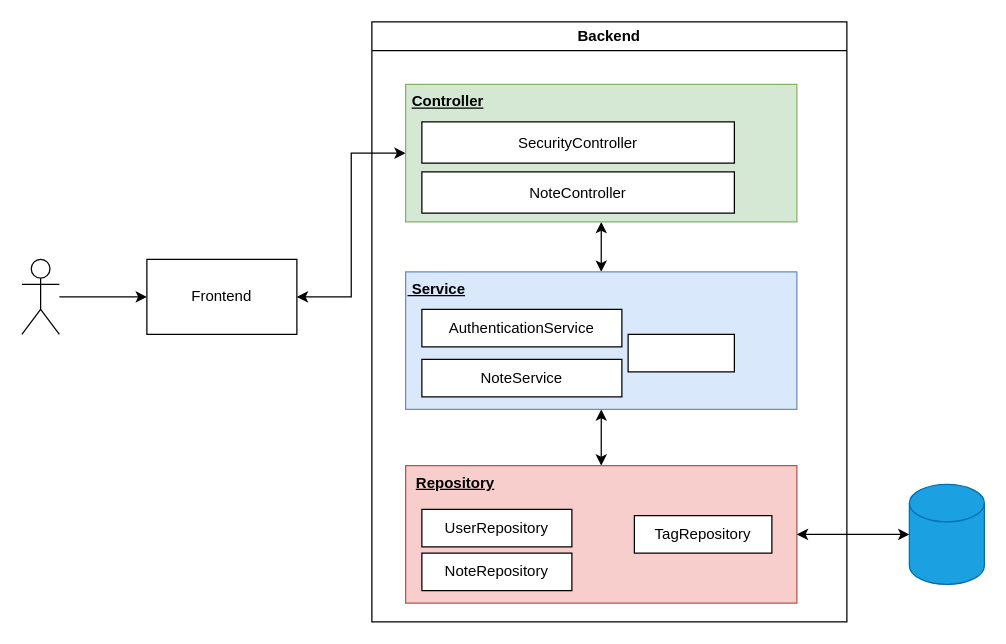
Some shapes in this 1006 by 644 pixel diagram are drawn without their labels. Here are the shapes that lost their labels. From the top down, the centre of each, then its label:
pixel 40 296: User
pixel 680 352: UserService
pixel 946 533: DB
